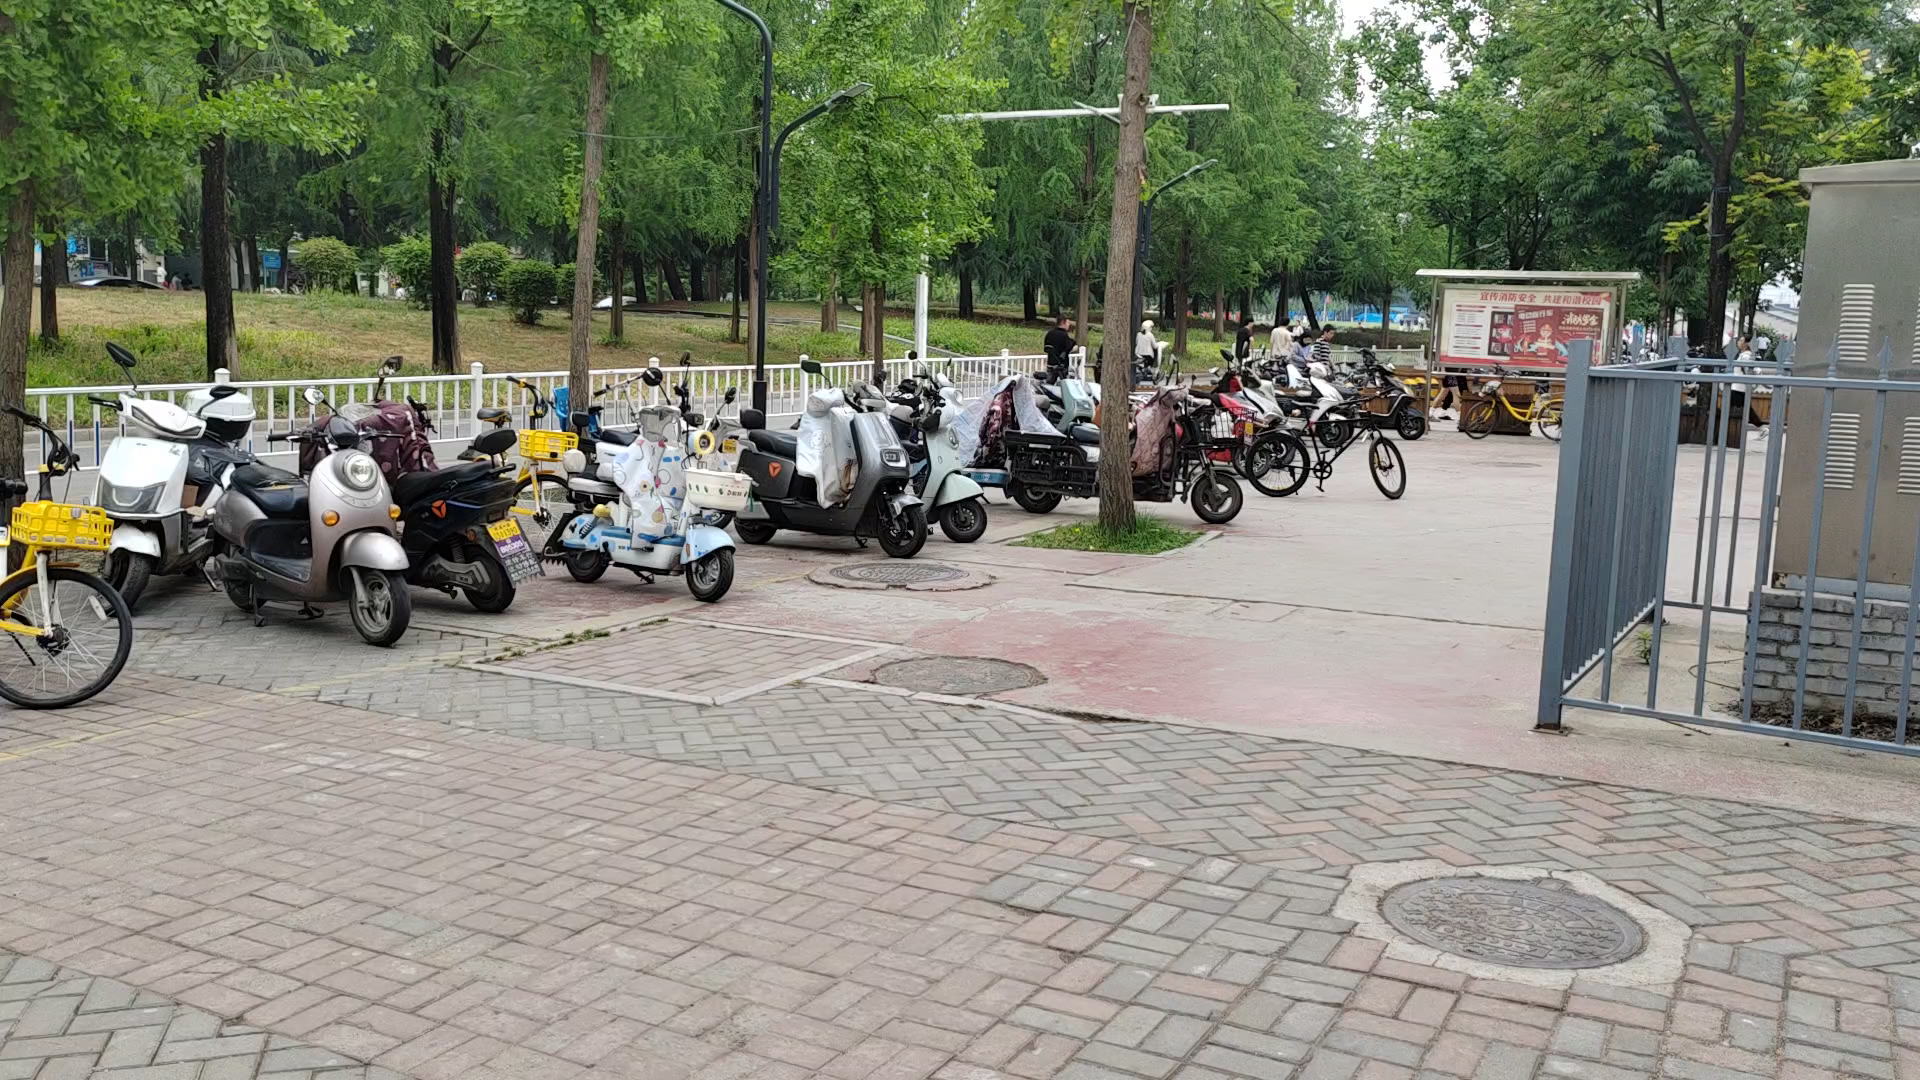others: (568, 361, 764, 609), (214, 411, 410, 655), (327, 386, 510, 632), (1004, 363, 1251, 543), (746, 349, 920, 587), (88, 343, 240, 608), (1249, 361, 1423, 517), (1425, 344, 1564, 462)
shared_bike_meituan: (13, 384, 127, 715), (467, 364, 595, 567)
